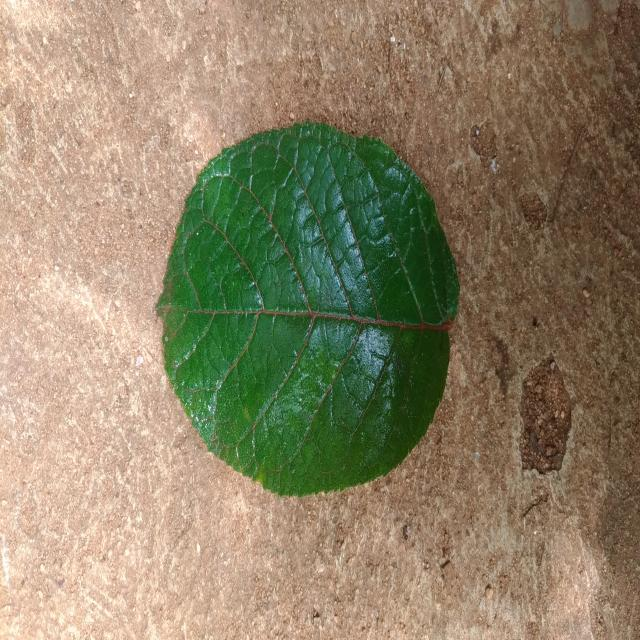padri: (158, 122, 459, 496)
